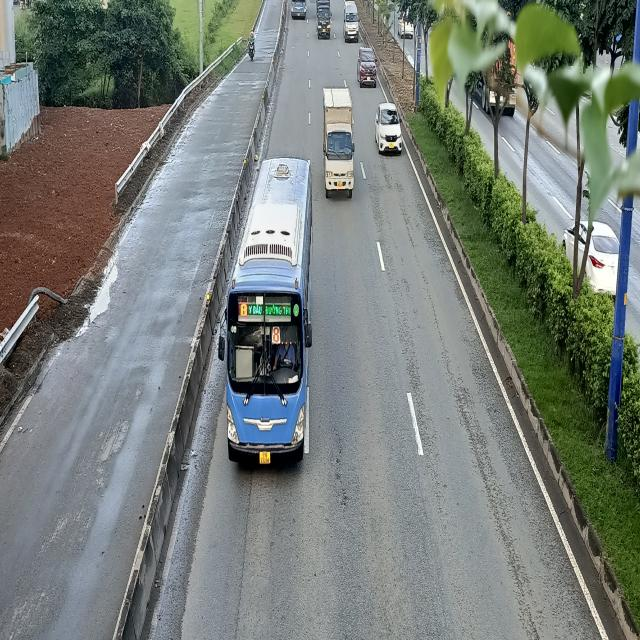car: (375, 101, 403, 153), (357, 46, 378, 88)
coach: (217, 160, 315, 463), (290, 0, 306, 19)
truck: (324, 89, 356, 196), (316, 1, 332, 40)
van: (342, 1, 360, 42)
